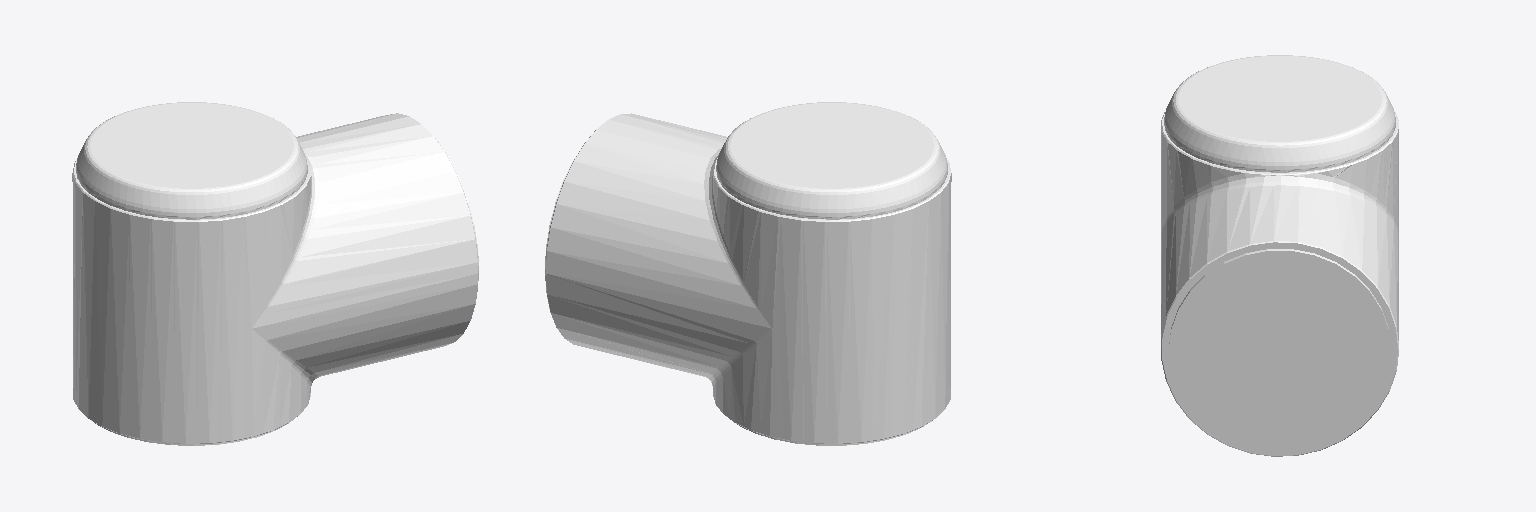
The model's file is wrist_flex_link.obj.
The picture shows the model from 3 angles: view 1: azimuth 30°, elevation 25°; view 2: azimuth 150°, elevation 25°; view 3: azimuth 270°, elevation 25°; orthographic projection.
Bounding box in the file's own units: 0.1685 × 0.121 × 0.104.